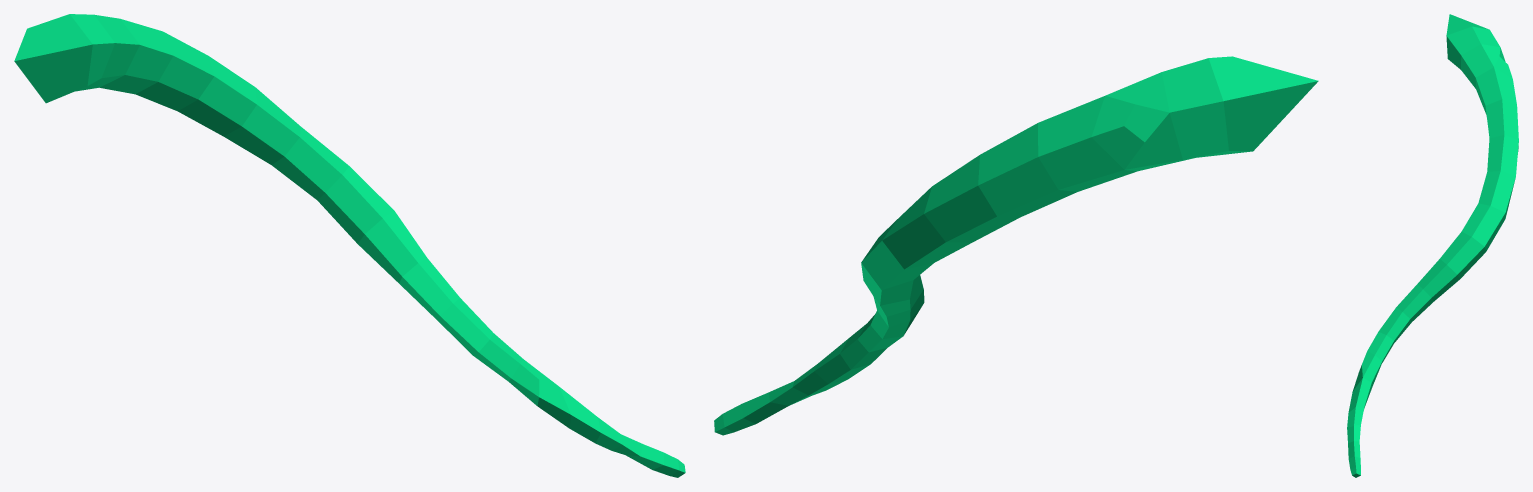
3 renders of one model, left to right at view 1: azimuth 30°, elevation 25°; view 2: azimuth 150°, elevation 25°; view 3: azimuth 270°, elevation 25°, orthographic. The views are drawn at different scales.
Visible parts, largest first — view 1: Root_02_Lod1; view 2: Root_02_Lod1; view 3: Root_02_Lod1.
Boxes of the visible parts, x1,y1,x2,y2 form: Root_02_Lod1: [14, 14, 685, 477]; Root_02_Lod1: [714, 56, 1318, 435]; Root_02_Lod1: [1347, 14, 1518, 477].
Size of the model in its own units: 346 by 289 by 148.
